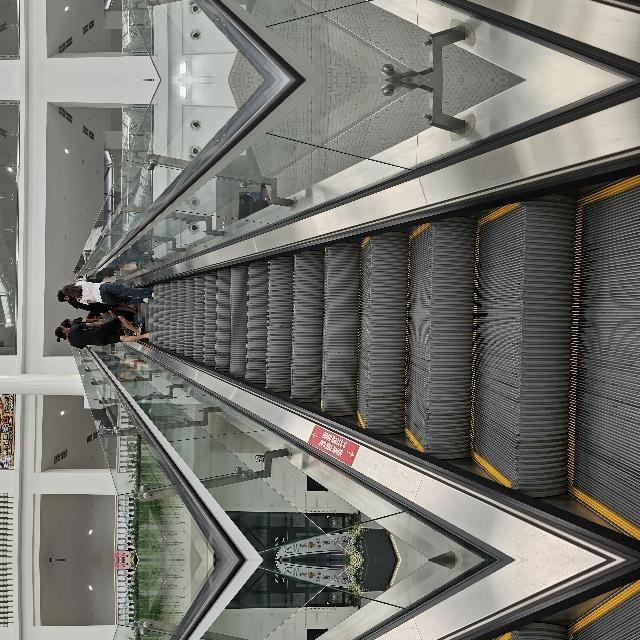person: (210, 134, 243, 230), (254, 143, 286, 235), (245, 136, 271, 218), (210, 0, 243, 25), (245, 0, 271, 23), (254, 0, 285, 17)
stair: (76, 400, 386, 640), (76, 432, 386, 640)
